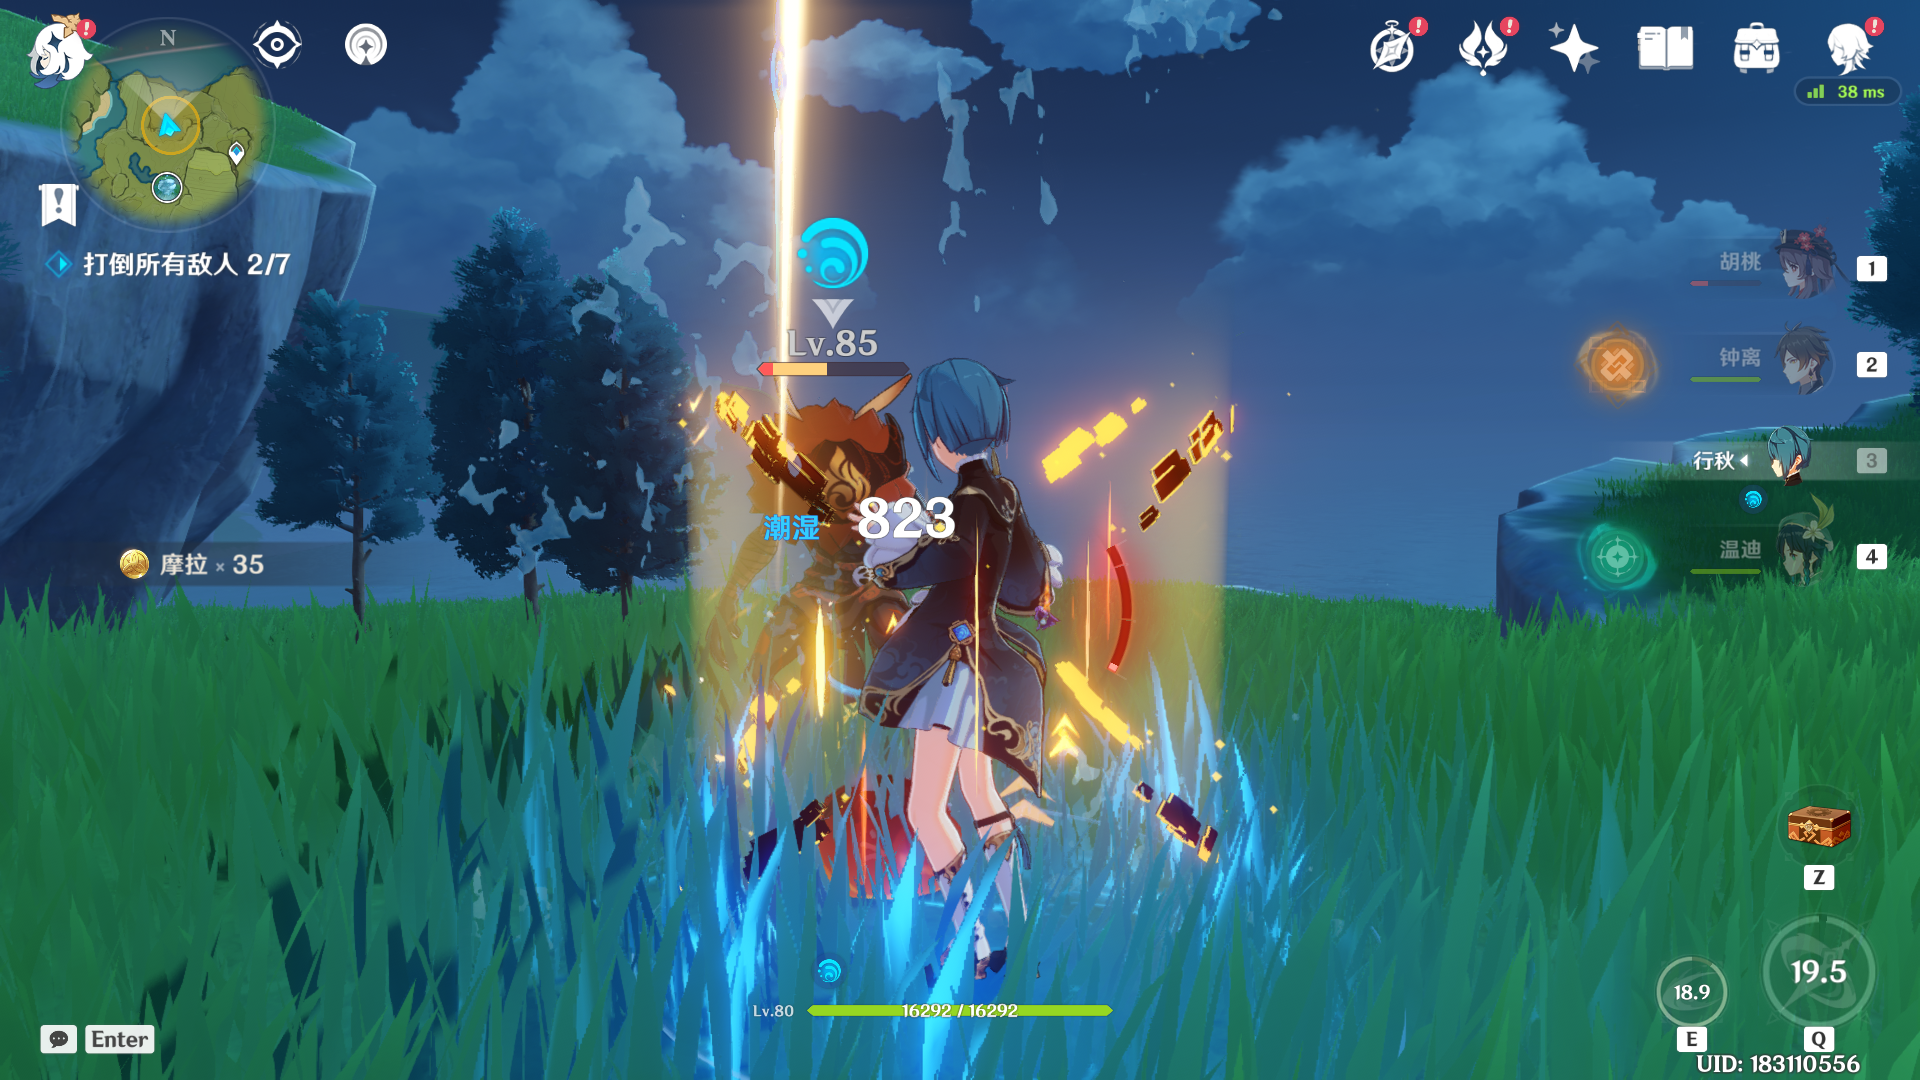character: (858, 342, 1185, 1065)
hili: (702, 352, 976, 849)
